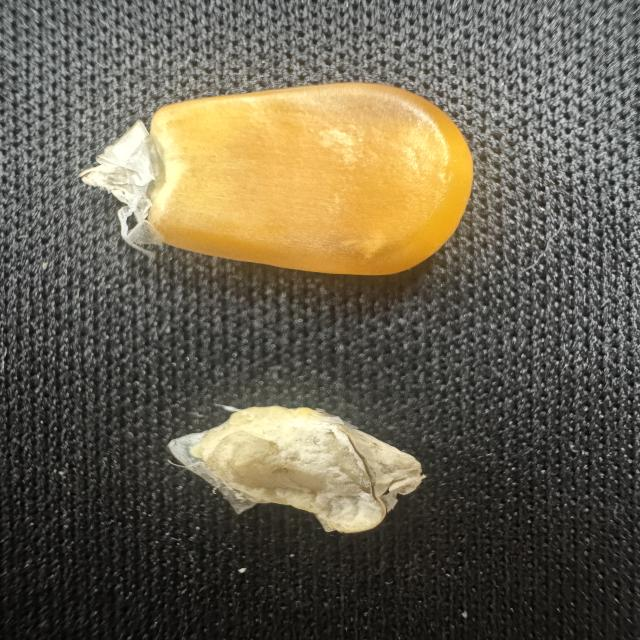Bad-Seed: (157, 396, 433, 538)
Good-Seed: (64, 70, 480, 281)
